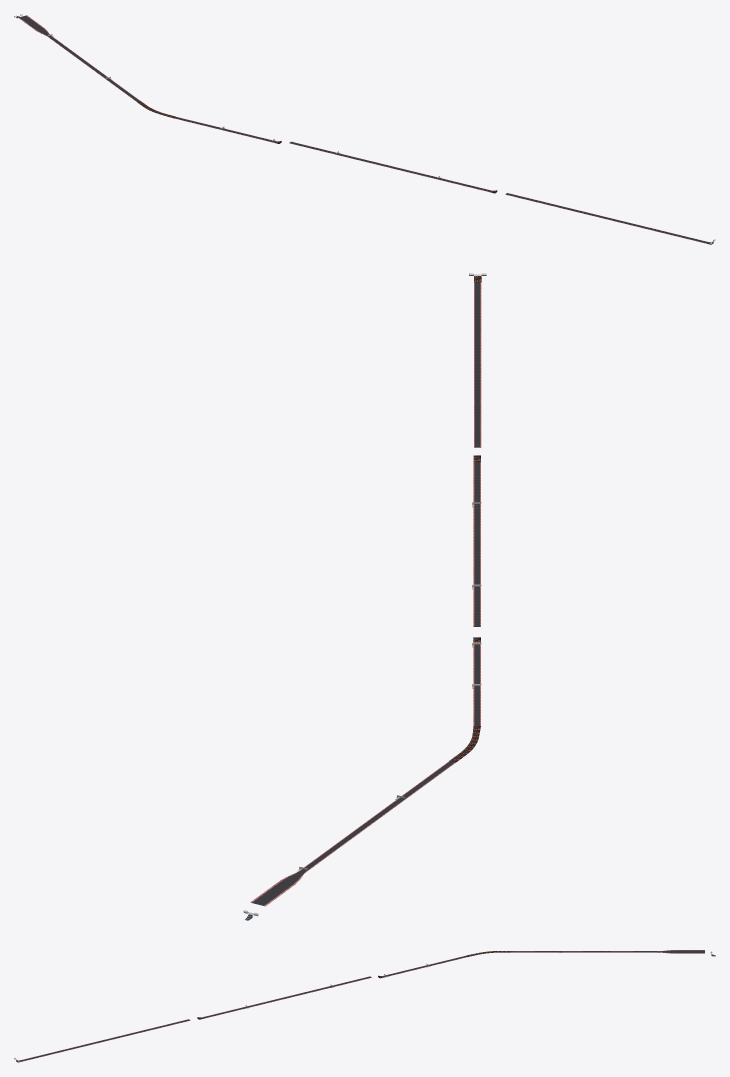
Rendered from LEVEL 5.fbx.
3 renders of one model, top to bottom at view 1: azimuth 30°, elevation 25°; view 2: azimuth 150°, elevation 25°; view 3: azimuth 270°, elevation 25°, orthographic. The views are drawn at different scales.
Parts seen in each view (by area): view 1: road; view 2: road; view 3: road.
Part boxes in pixels (left/top/right/bottom): road: left=18, top=15, right=708, bottom=243; road: left=250, top=282, right=481, bottom=906; road: left=20, top=950, right=704, bottom=1061.
Size of the model in its own units: 125838 by 5252 by 316861.
